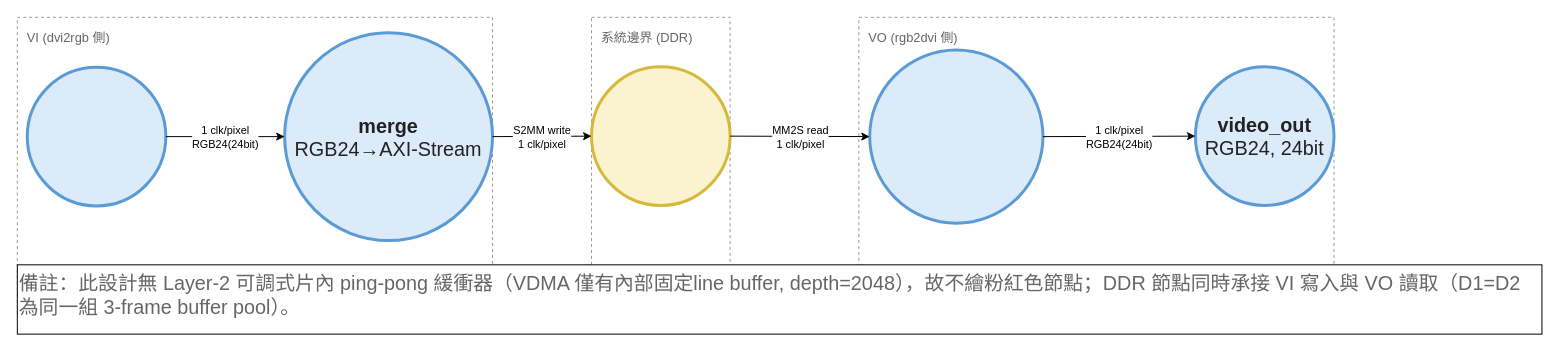
The diagram is 1559 pixels wide and 351 high, and some of its shapes have lost their labels. The centre of each missing label's shape, as x and y in pixels:
DDR RGB24, 24bit 3 frames: point (660, 135)
slice AXI-Stream→RGB24: point (956, 136)
video_in RGB24, 24bit: point (96, 136)
